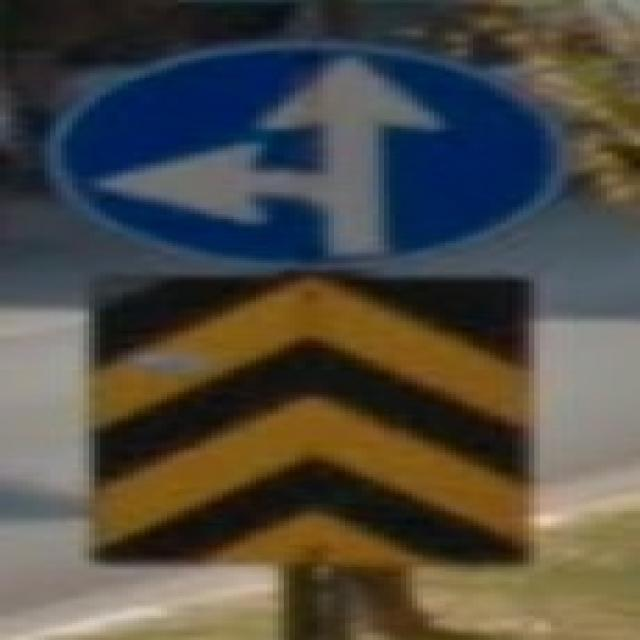Straight or Left: (51, 45, 569, 269)
